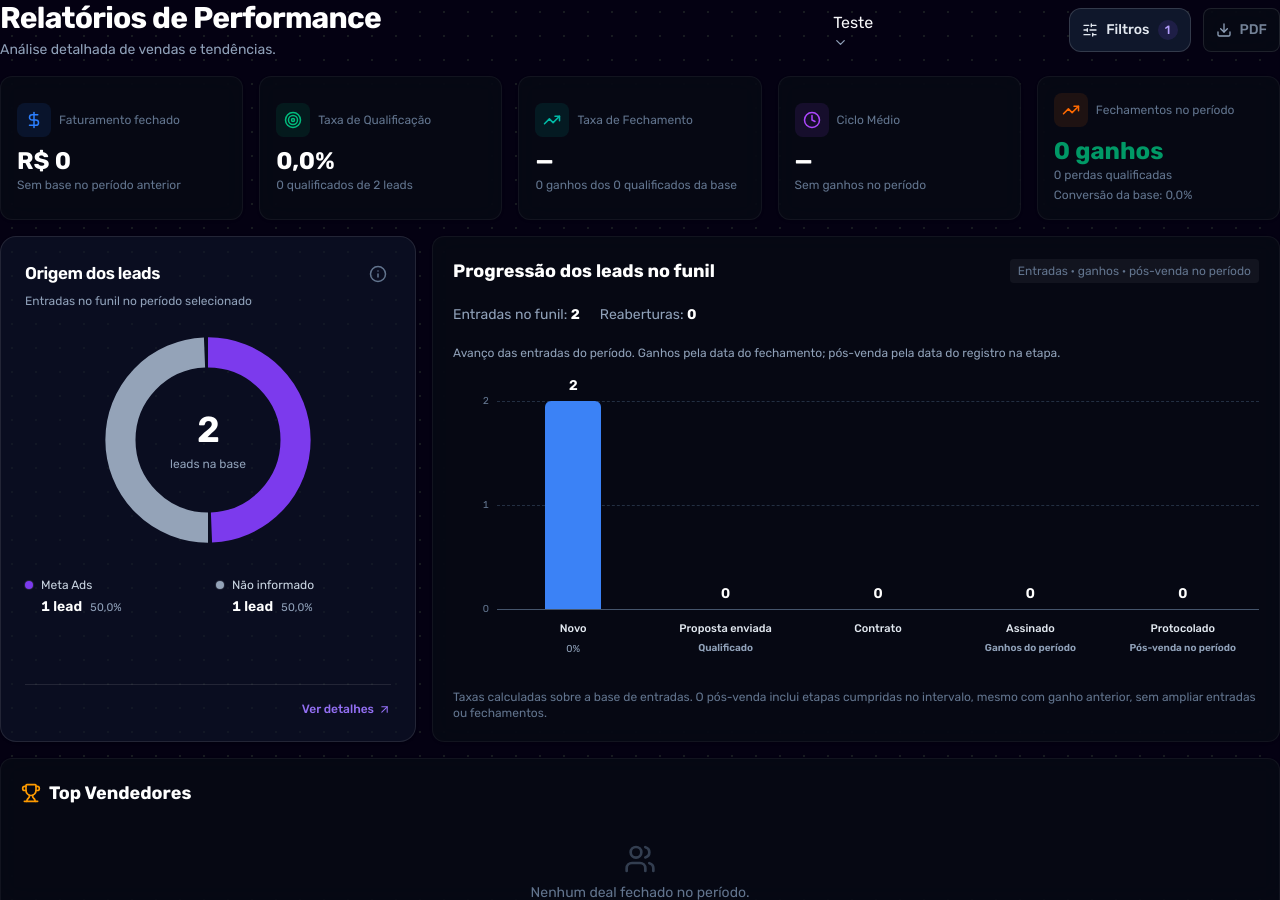
Test case: tela Performance › preserva a rosca na base de entradas e na origem registrada na entrada
Click the button with aria-label "Detalhar Meta Ads: 1 lead, 50,0%". click: (112, 596)
box: [25,568,200,624]
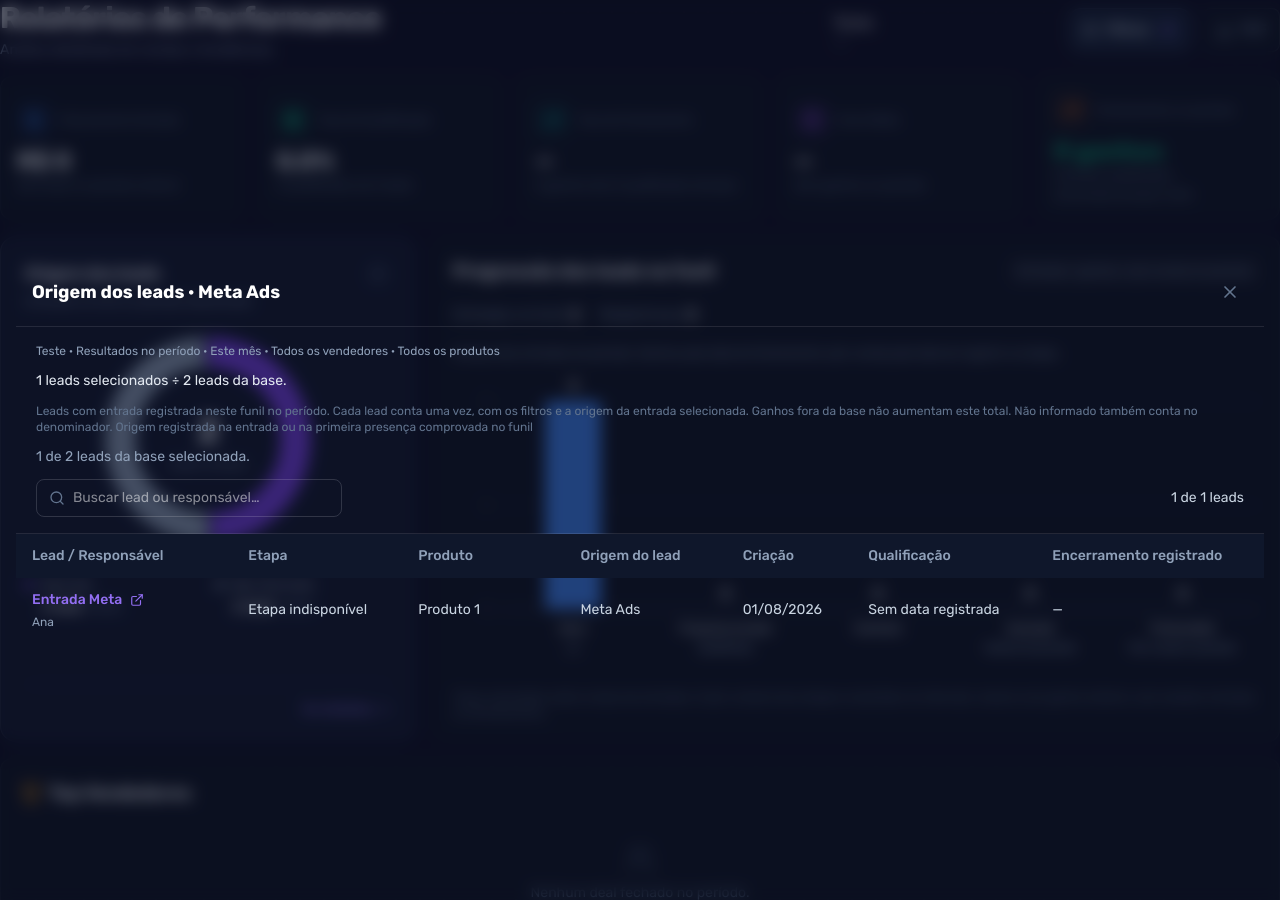
Now the number of links is 1, box [32,590,144,610]
Now the column heading "Origem do lead" is shown, box [564,534,727,578]
Now the cell "Meta Ads" is shown, box [564,578,727,642]
Click the button named "Fechar". click: (1230, 292)
box: [1212,274,1248,310]
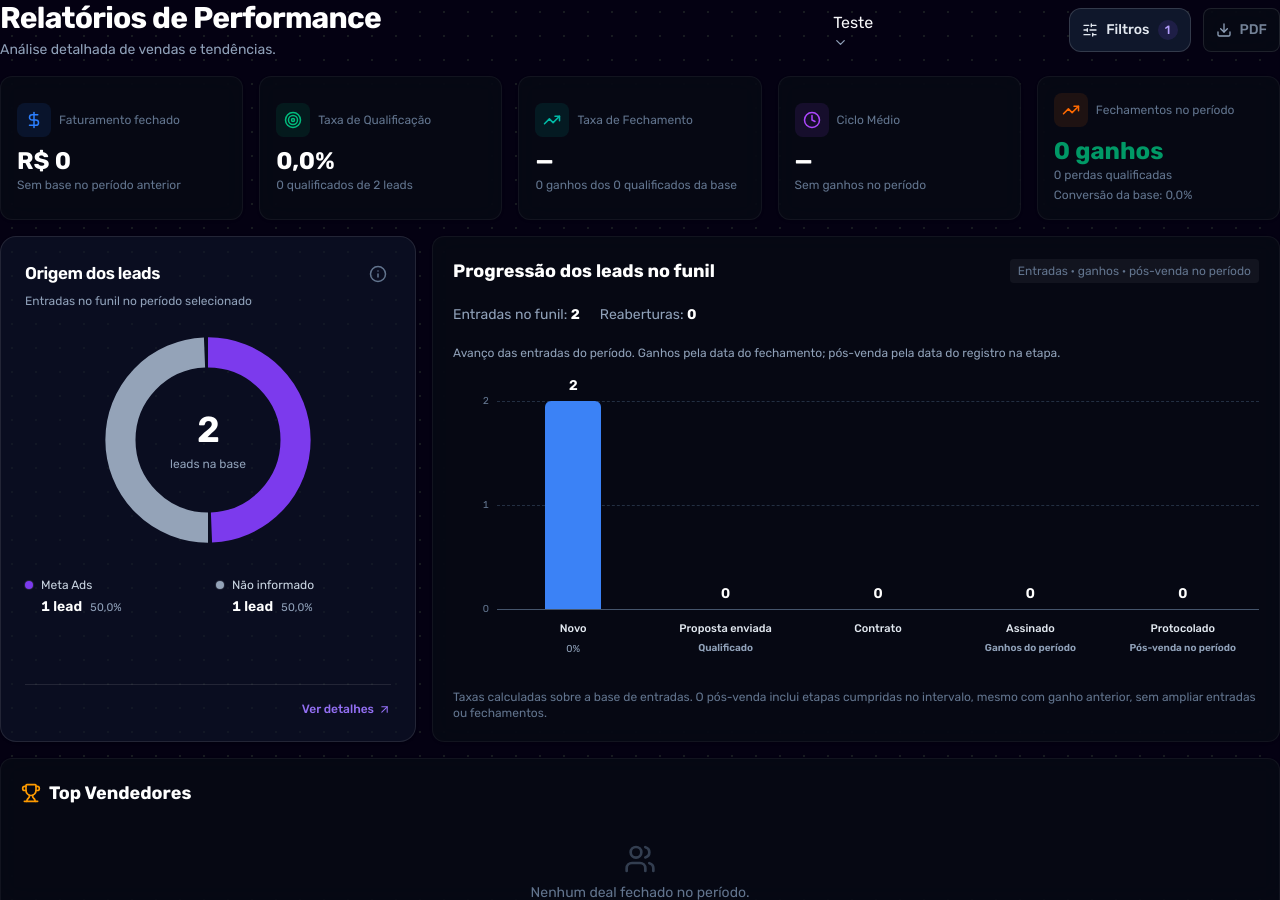
Click the button with aria-label "Ver todas as origens". click: (346, 709)
box: [302,701,391,717]
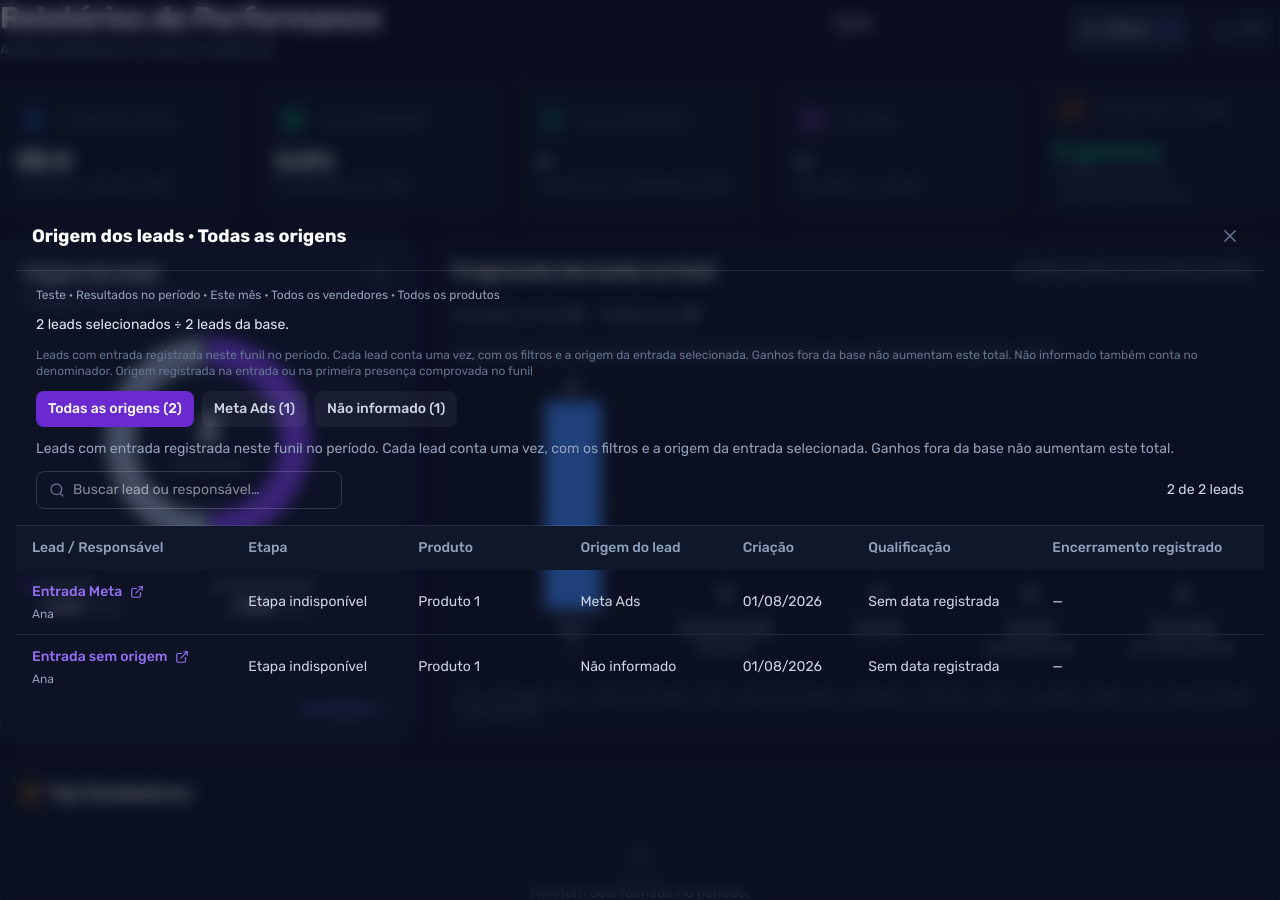
Now the number of links is 2, box [32,582,144,602]; [32,646,189,666]
